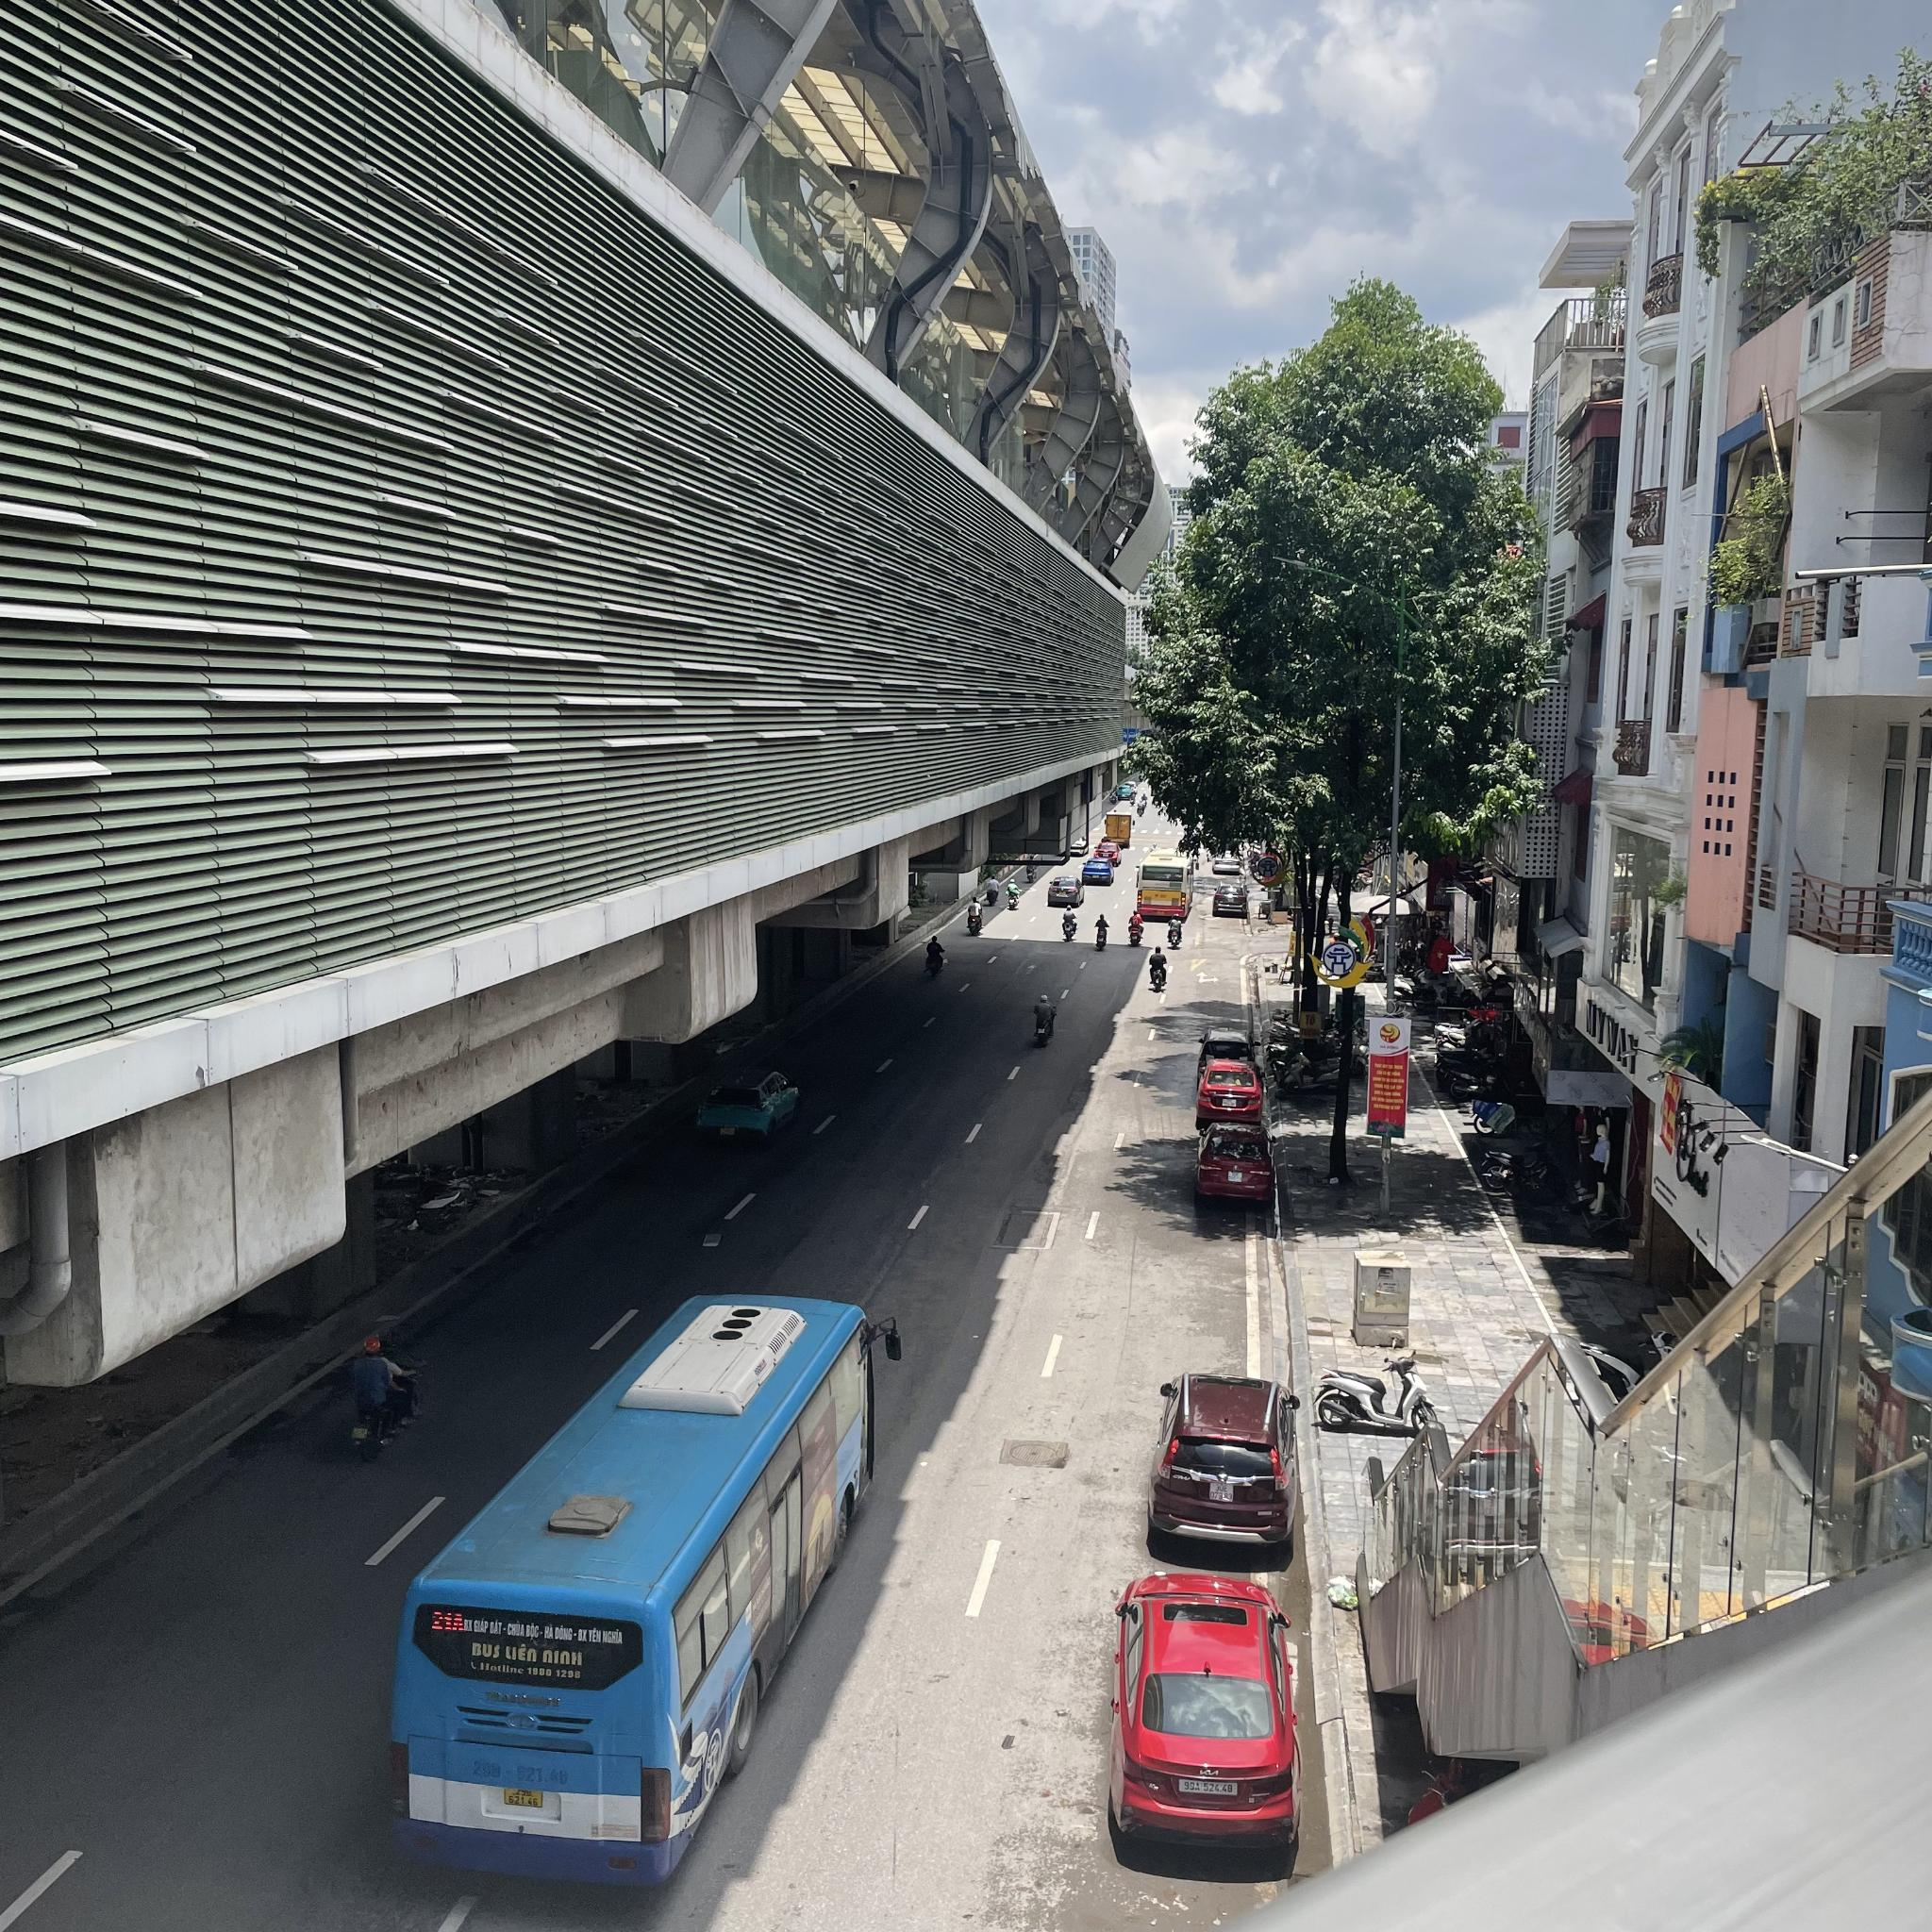car: (382, 1295, 890, 1895), (1118, 1575, 1307, 1863), (1143, 1373, 1302, 1557), (692, 1067, 803, 1148), (1196, 1122, 1277, 1208)
motobike: (354, 1343, 423, 1456), (1033, 993, 1060, 1047), (925, 934, 947, 984), (1148, 945, 1168, 993), (968, 897, 984, 934), (1062, 906, 1077, 941), (1168, 915, 1185, 945), (1129, 911, 1143, 947), (1095, 916, 1109, 950)
